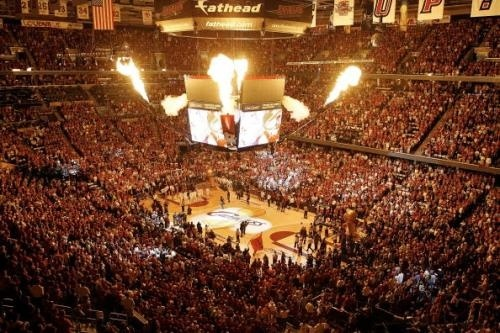fire: (207, 52, 248, 109), (323, 64, 363, 107), (114, 56, 148, 100), (282, 94, 310, 122), (161, 92, 188, 115)
